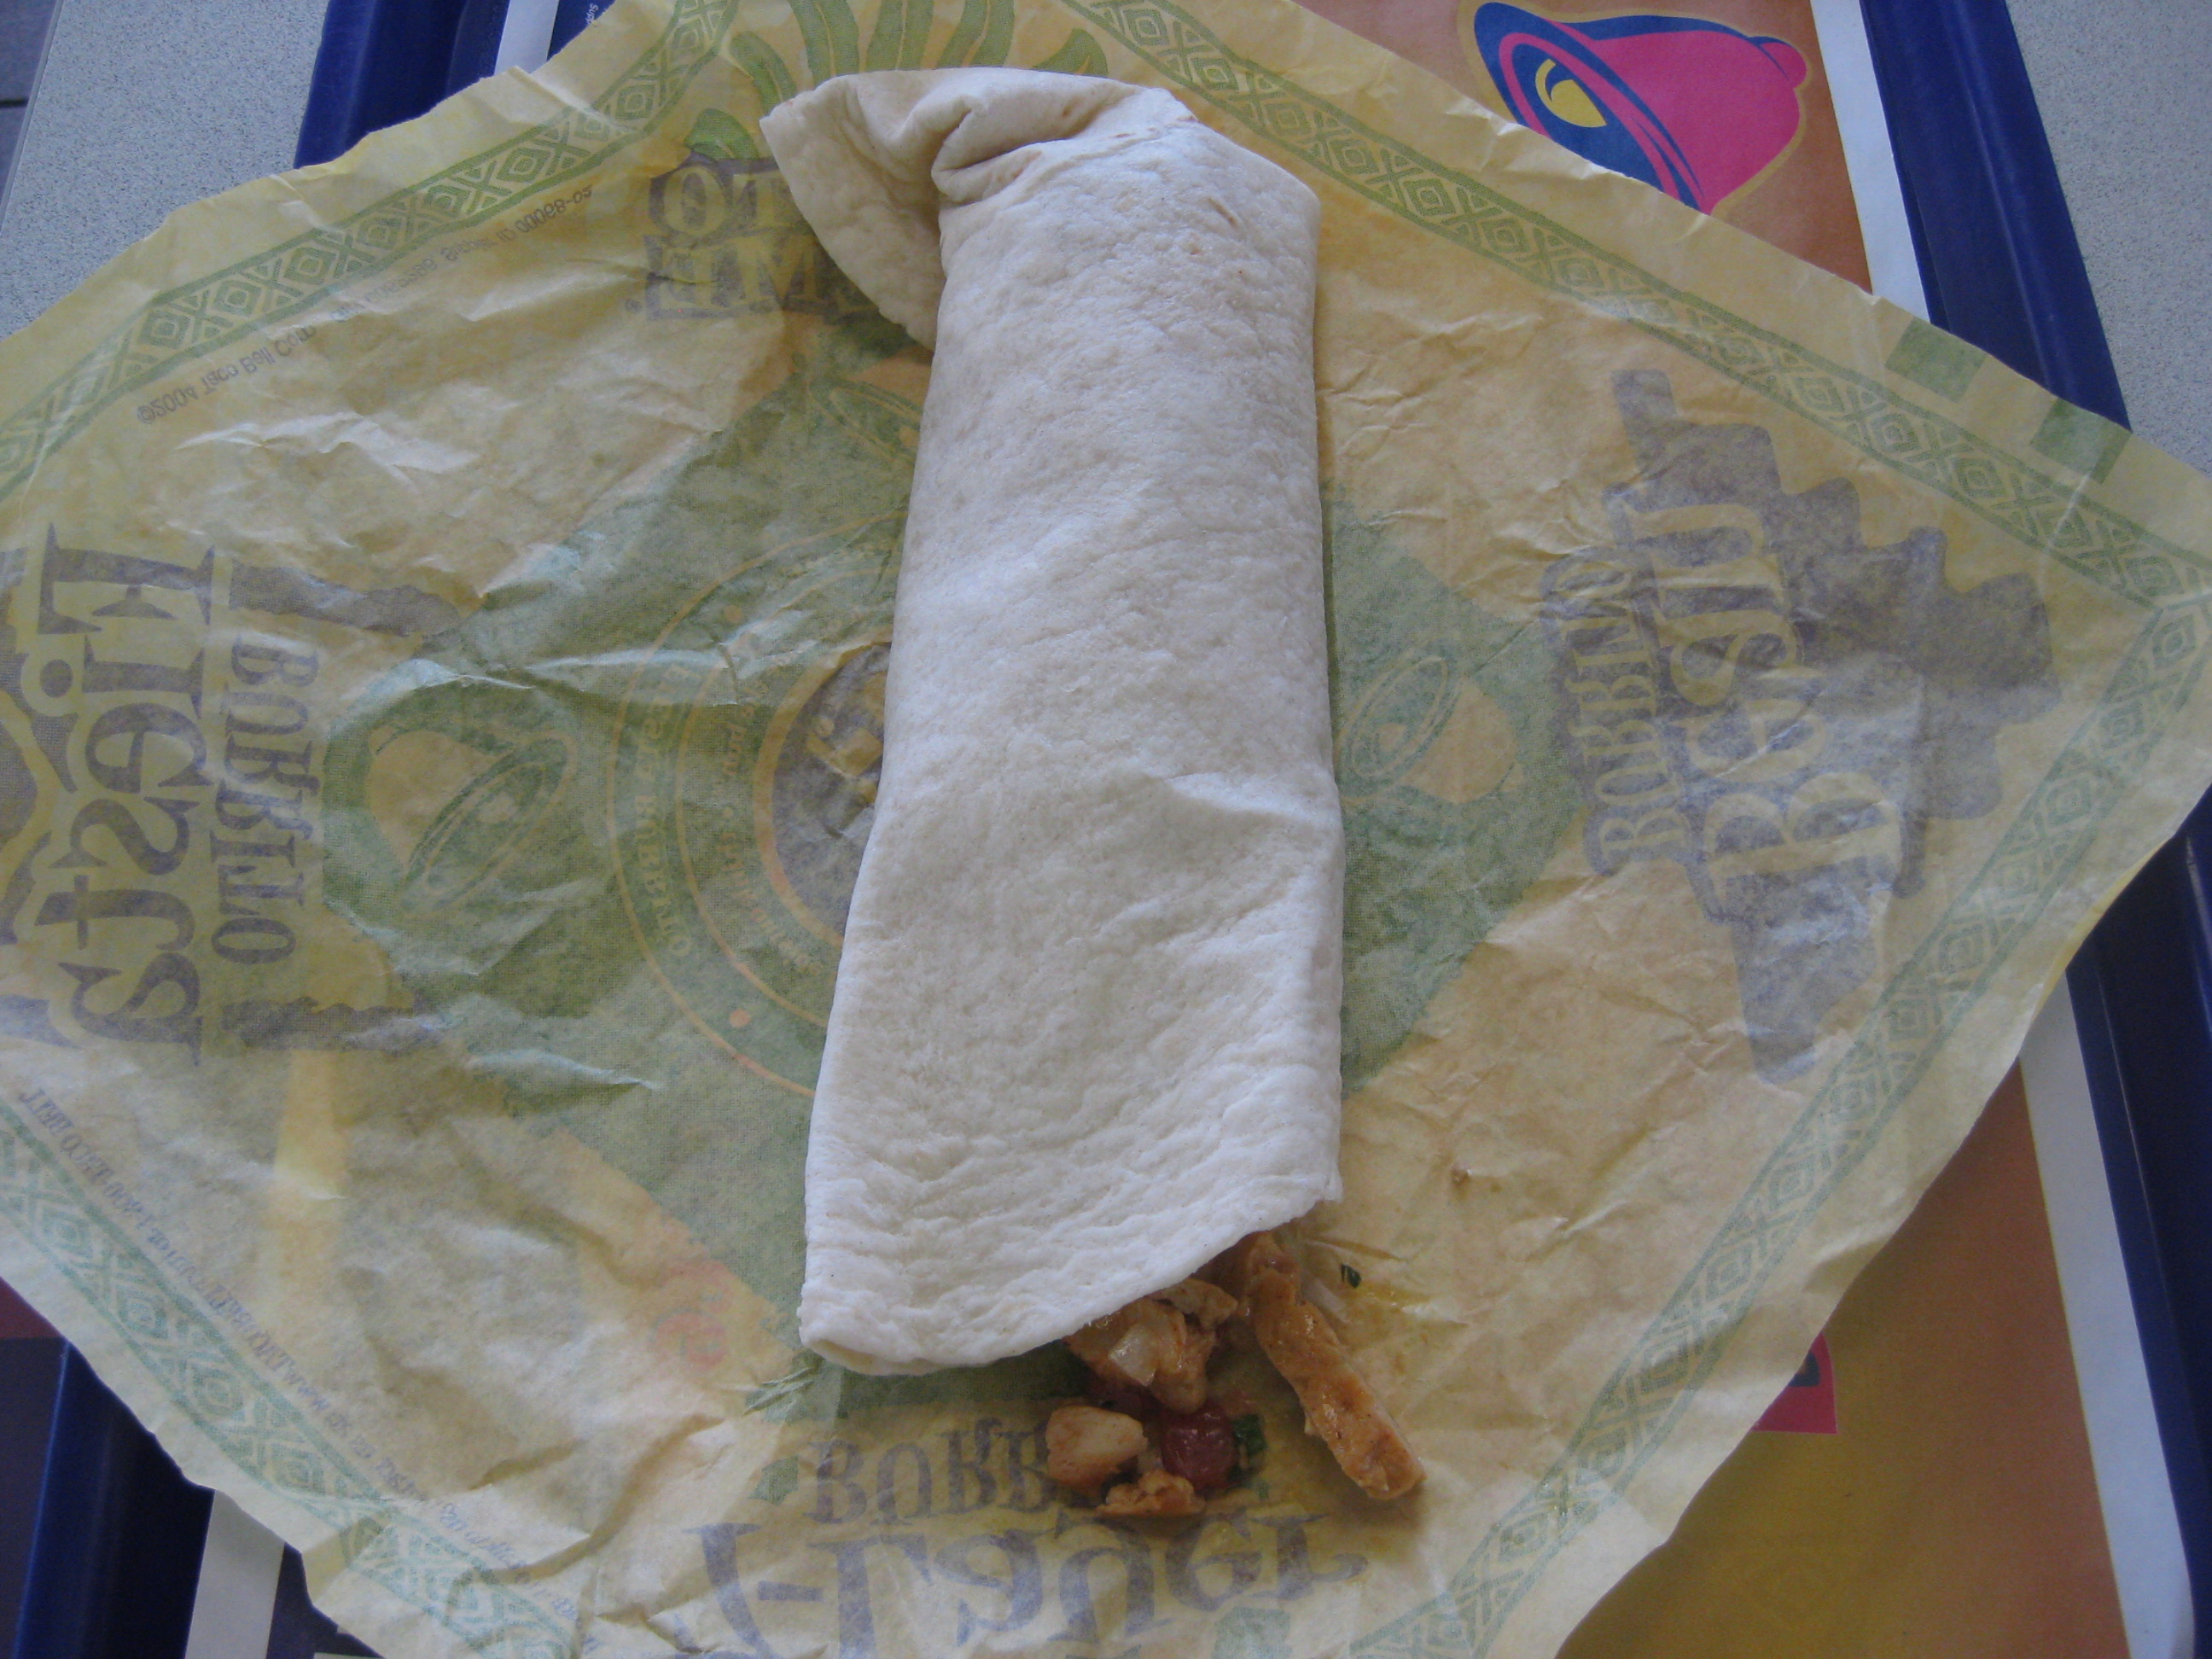burrito: (727, 57, 1450, 1518)
